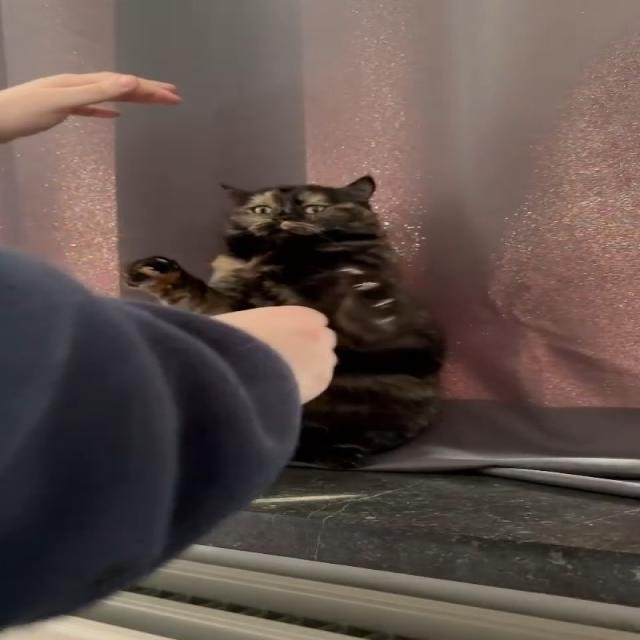authorized: (123, 175, 445, 470)
